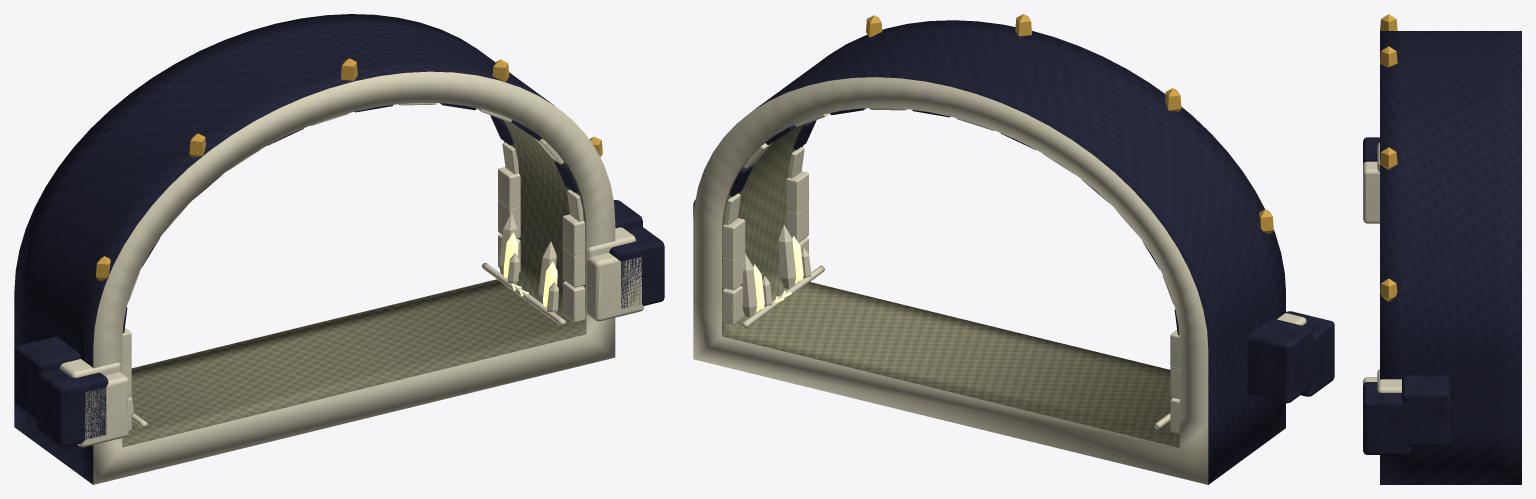
The model's file is portal_entry.glb.
The picture shows the model from 3 angles, left to right: view 1: azimuth 30°, elevation 25°; view 2: azimuth 150°, elevation 25°; view 3: azimuth 270°, elevation 25°; orthographic projection. The views are drawn at different scales.
Parts seen in each view (by area): view 1: TunnelGeometry; view 2: TunnelGeometry; view 3: TunnelGeometry.
Part boxes in pixels (<box>): TunnelGeometry: <box>14,14,664,484</box>; TunnelGeometry: <box>693,14,1334,484</box>; TunnelGeometry: <box>1363,14,1521,484</box>.
Size of the model in its own units: 17.75 by 10.07 by 4.47.
5 materials, 2 textured.
